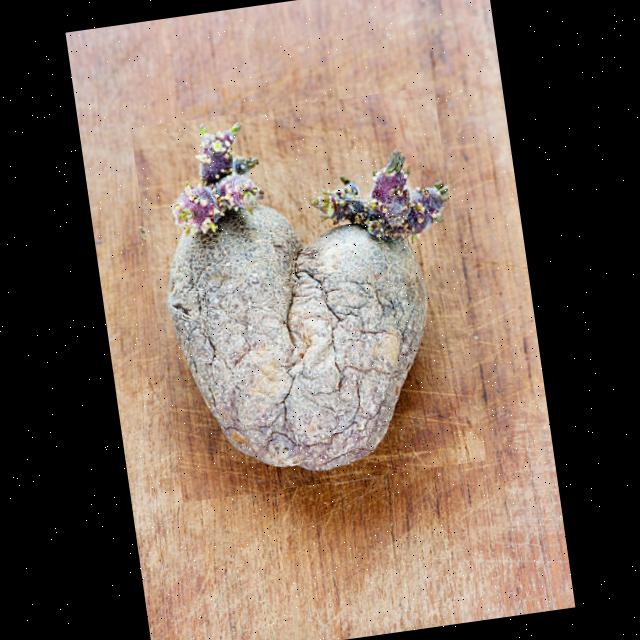Sprouted potato: (130, 86, 487, 503)
